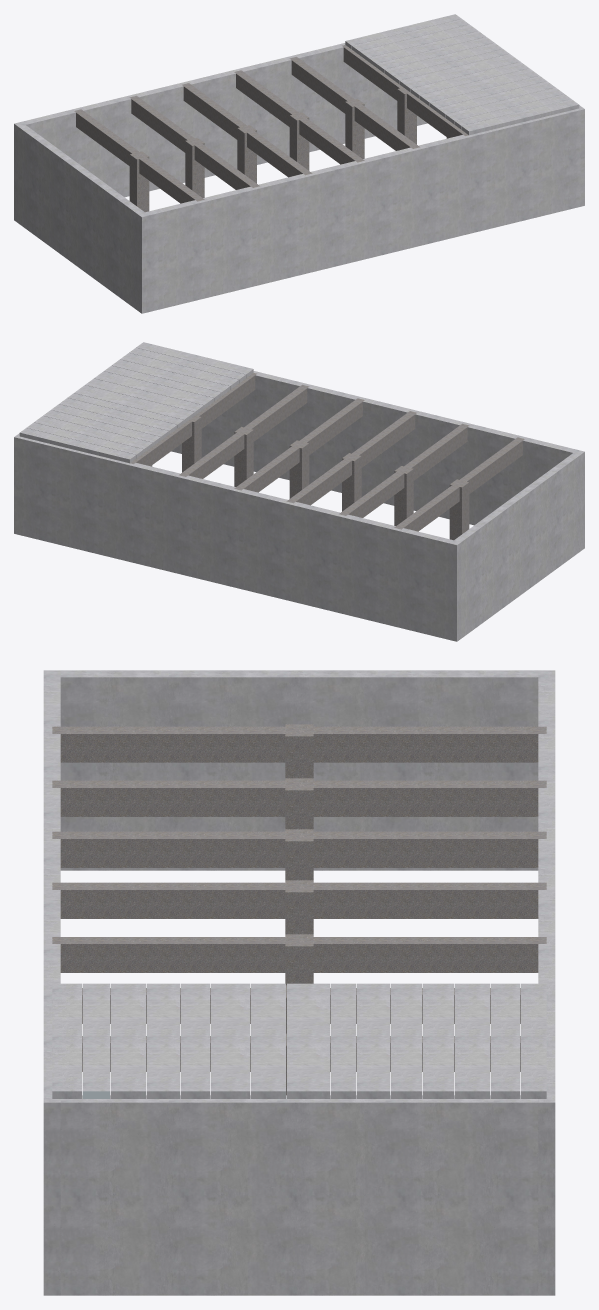
The model's file is semi-frame.glb.
3 views of the same model, one above another, from view 1: azimuth 30°, elevation 25°; view 2: azimuth 150°, elevation 25°; view 3: azimuth 270°, elevation 25° (orthographic). The views are drawn at different scales.
Parts seen in each view (by area): view 1: 墙体, 楼板, 横向梁, 柱; view 2: 墙体, 楼板, 横向梁, 柱; view 3: 墙体, 横向梁, 楼板, 柱.
Boxes of the visible parts, x1,y1,x2,y2 form: 墙体: (14, 43, 584, 313); 楼板: (345, 14, 579, 135); 横向梁: (74, 45, 468, 203); 柱: (129, 87, 447, 212); 墙体: (14, 371, 584, 641); 楼板: (19, 342, 253, 463); 横向梁: (130, 373, 524, 531); 柱: (151, 415, 469, 540); 墙体: (43, 670, 555, 1295); 横向梁: (52, 726, 546, 1071); 楼板: (52, 983, 546, 1098); 柱: (285, 724, 313, 1095).
Size of the model in its own units: 14.4 by 3.12 by 7.2.
5 materials, 4 textured.
